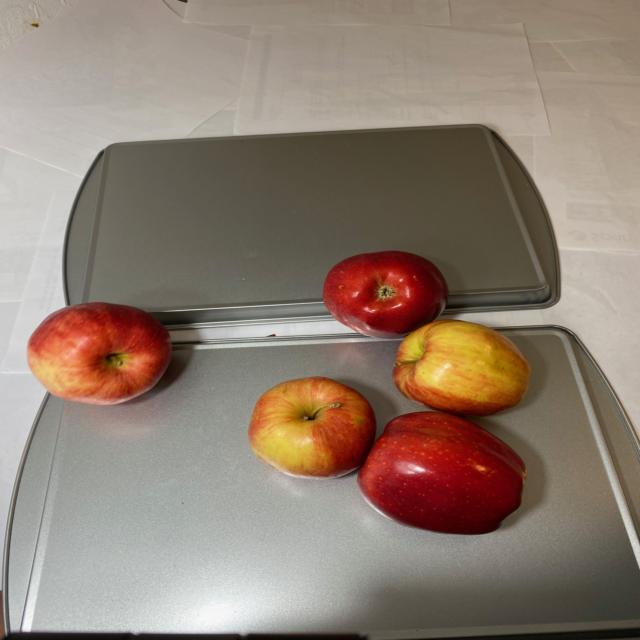apple: (244, 250, 537, 533), (28, 301, 180, 407)
